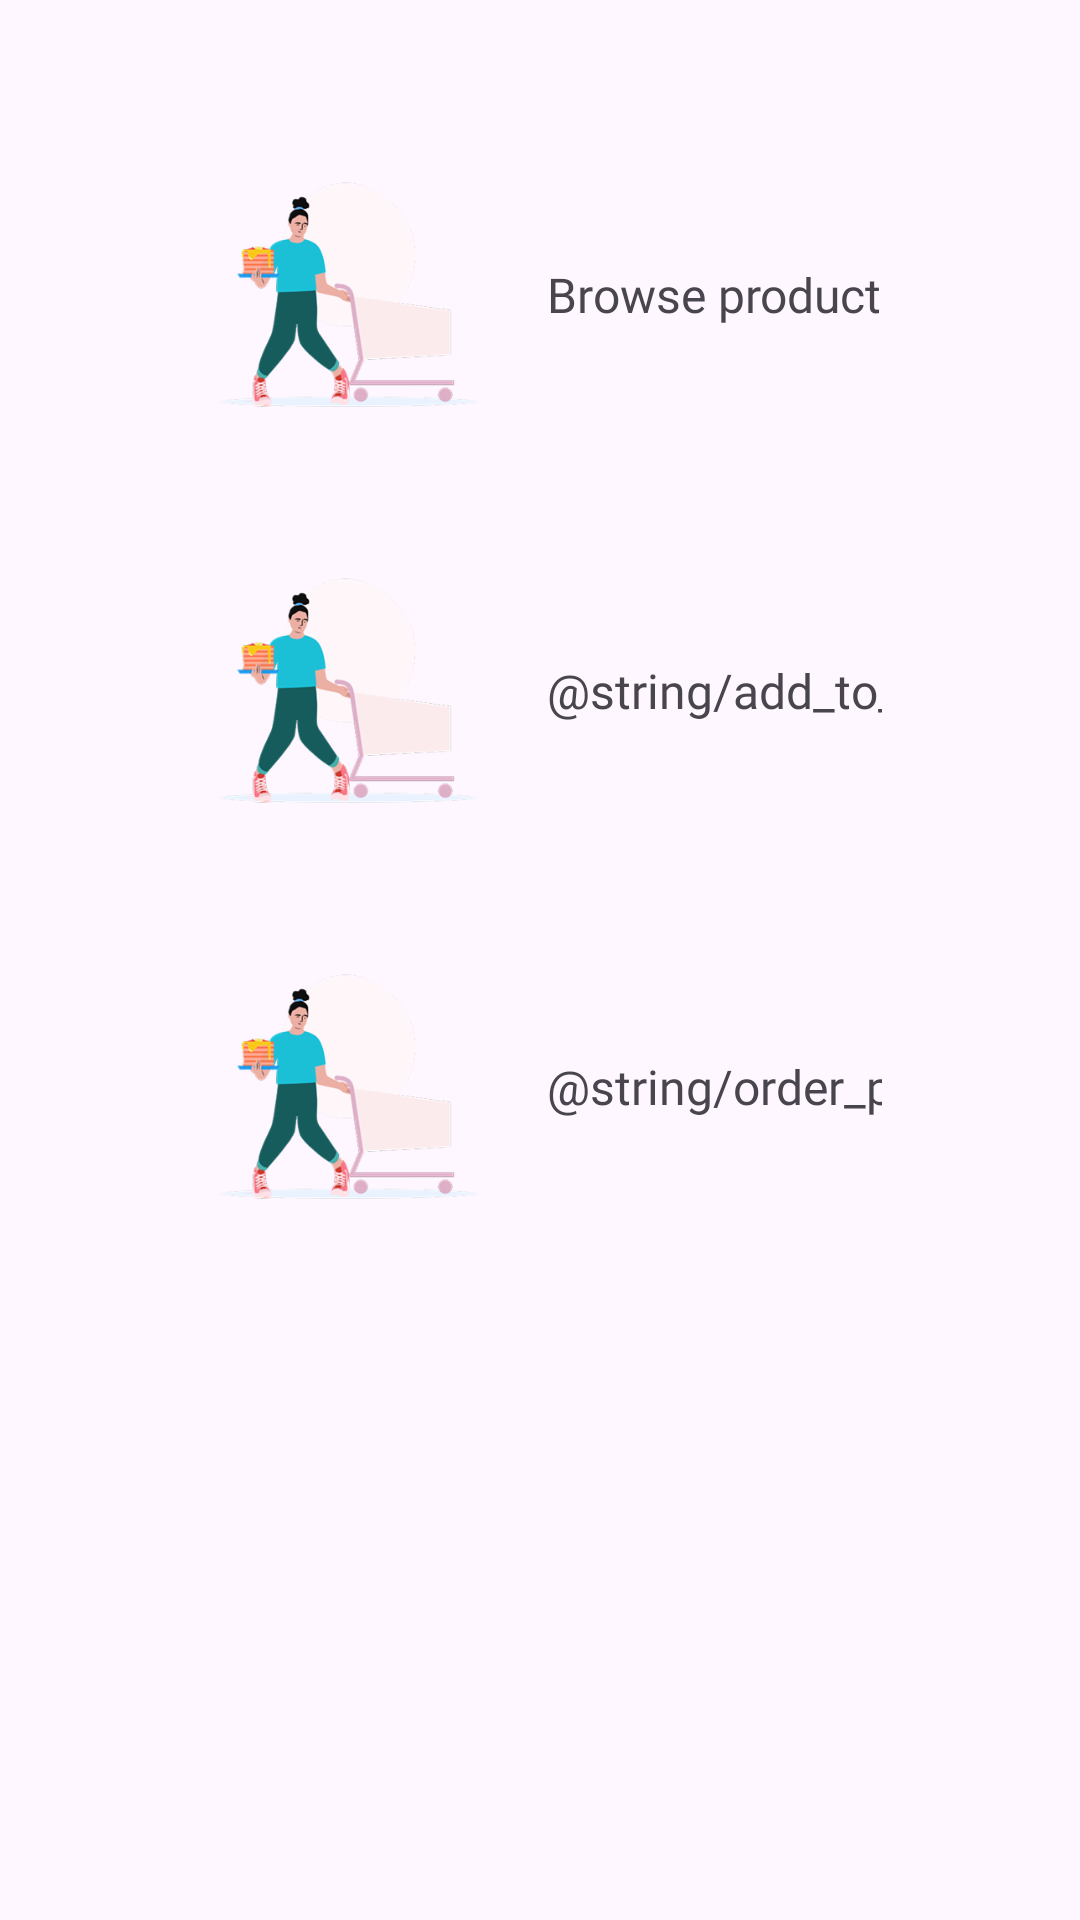

Where to tap for icons on this 1080 × 1920 app screen, as (x,y):
home shopping: (348,302), (348,698), (348,1094)
